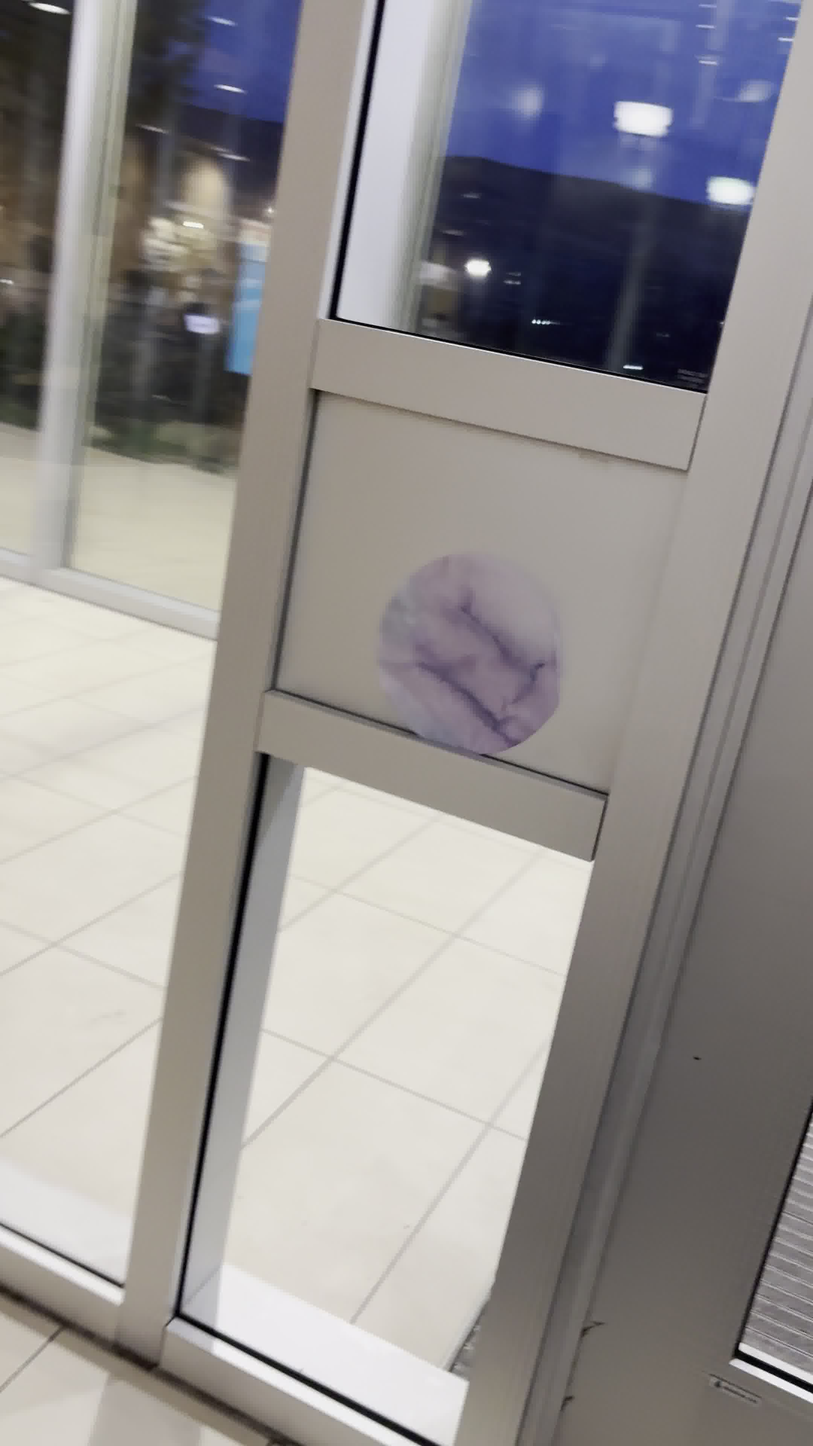Target: (370, 550, 569, 759)
